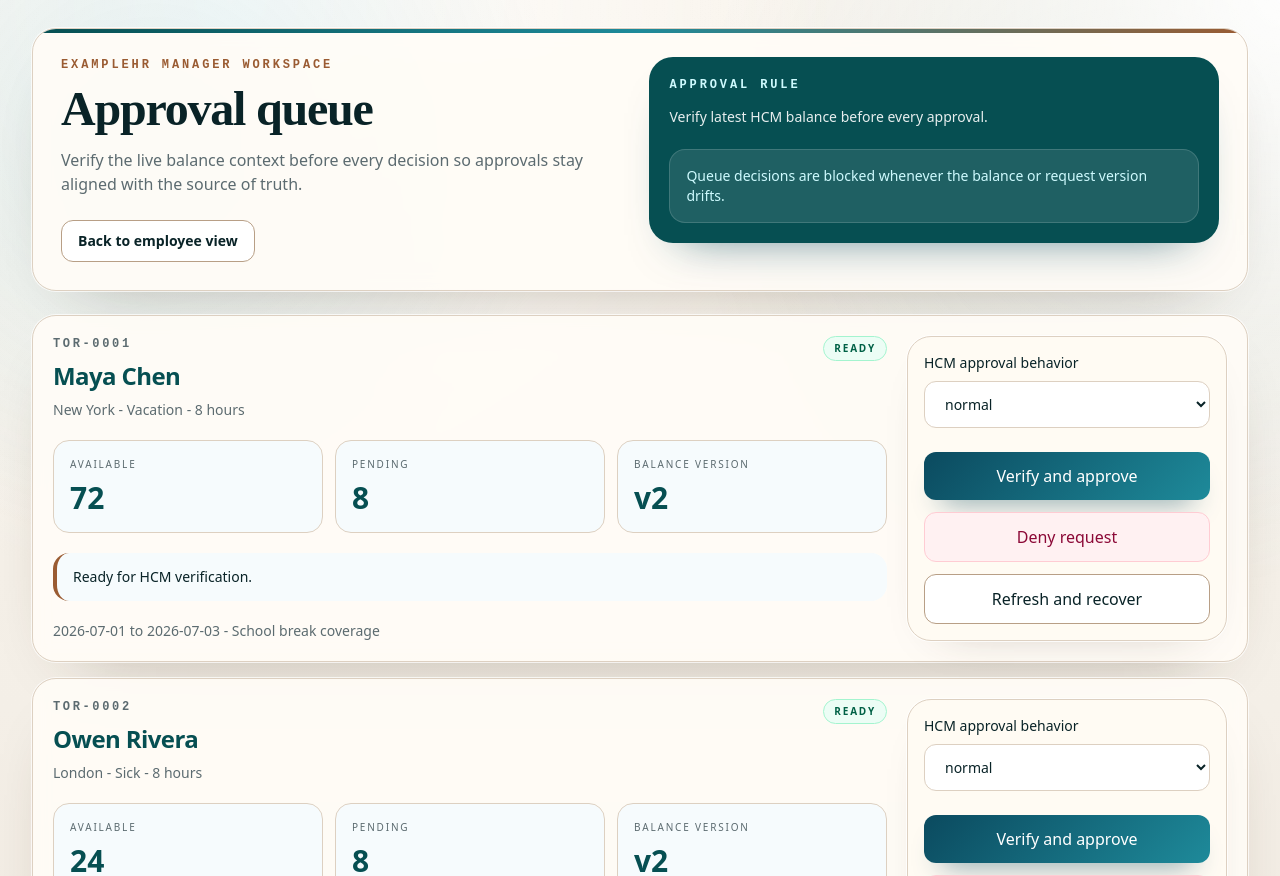
ManagerView HCM interactions › succeeds on approval when the balance is stable
Select "normal" in the dropdown labelled "HCM approval behavior" in the row of "Vacation" at {"x": 1067, "y": 404}, box [924,381,1210,428]
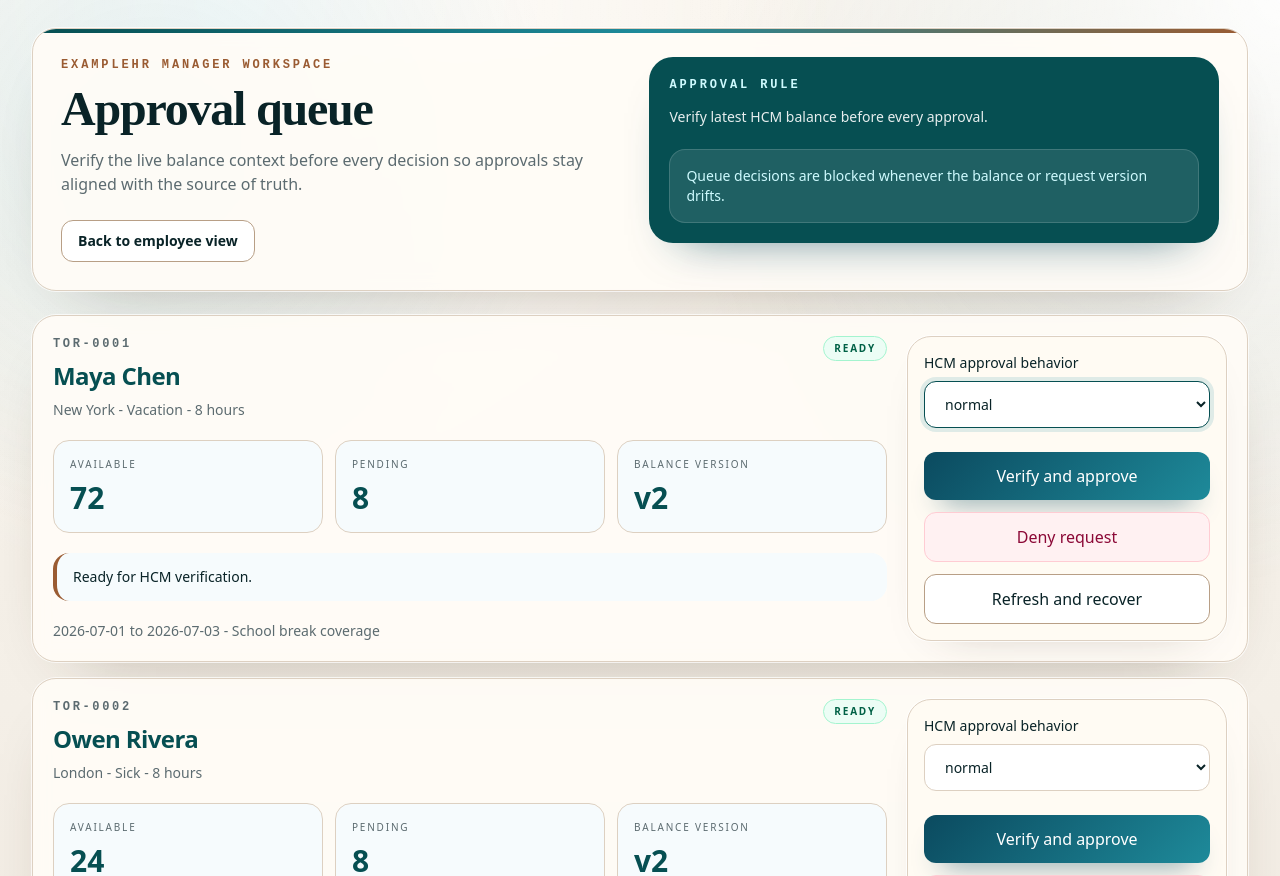
Click the button "Verify and approve" in the row of "72".
click(1067, 476)  # box [924,452,1210,500]
(page scrolled)
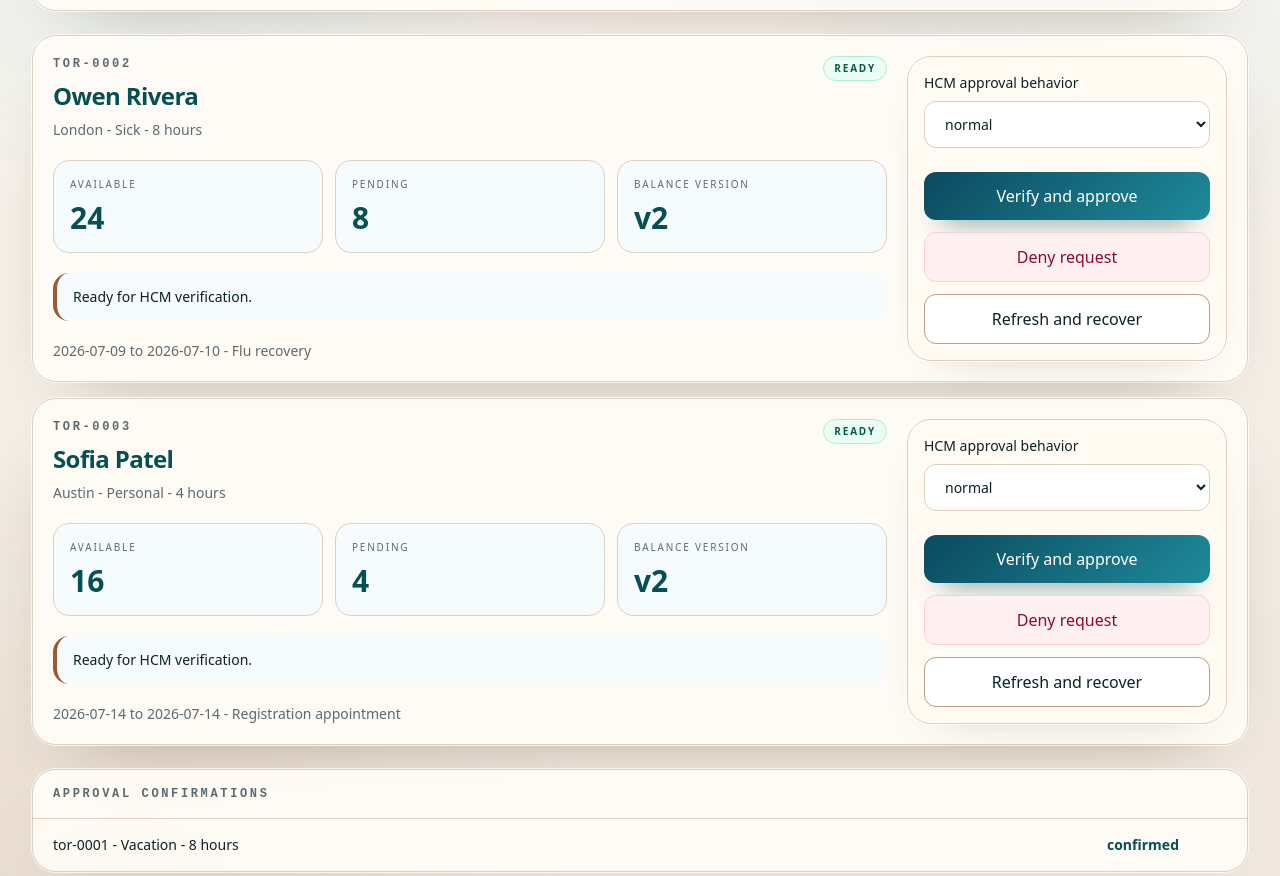
Expected: the text "tor-0001 - Vacation - 8 hours" is shown, [53,835,239,854]
Expected: the text "confirmed" is shown, [1107,835,1179,854]
Expected: the text "School break coverage" is gone
